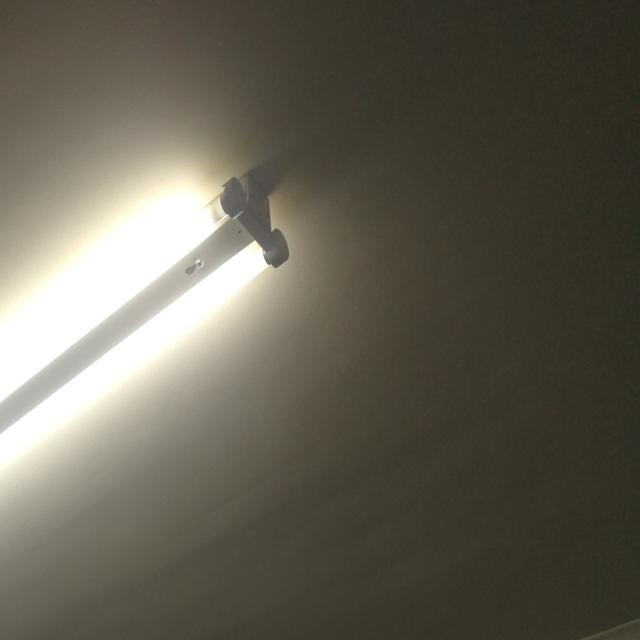fluorescent tube: (0, 161, 313, 640)
